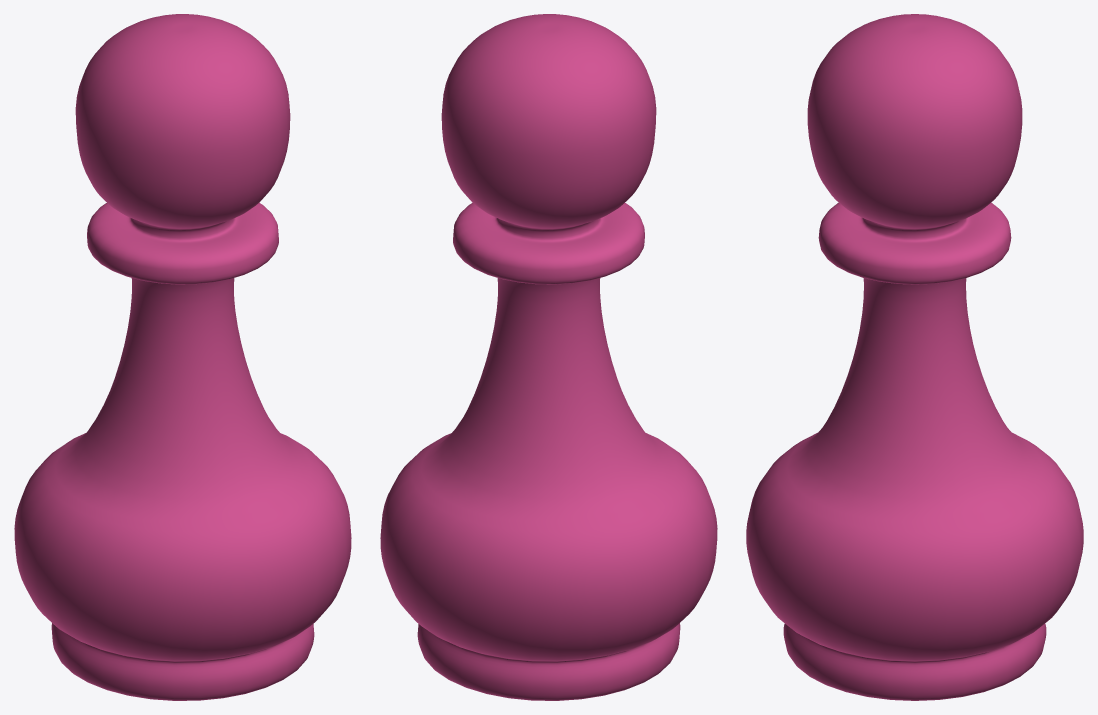
The model's file is Pawn_Pink.fbx.
3 renders of one model, left to right at view 1: azimuth 30°, elevation 25°; view 2: azimuth 150°, elevation 25°; view 3: azimuth 270°, elevation 25°, orthographic.
Parts seen in each view (by area): view 1: Pawn_Pink; view 2: Pawn_Pink; view 3: Pawn_Pink.
Boxes of the visible parts, box(x1,y1,x2,y2) form: Pawn_Pink: box(14, 14, 351, 700); Pawn_Pink: box(380, 14, 717, 700); Pawn_Pink: box(746, 14, 1083, 700).
Bounding box in the file's own units: 0.2641 × 0.5369 × 0.2641.
1 material, 1 textured.
